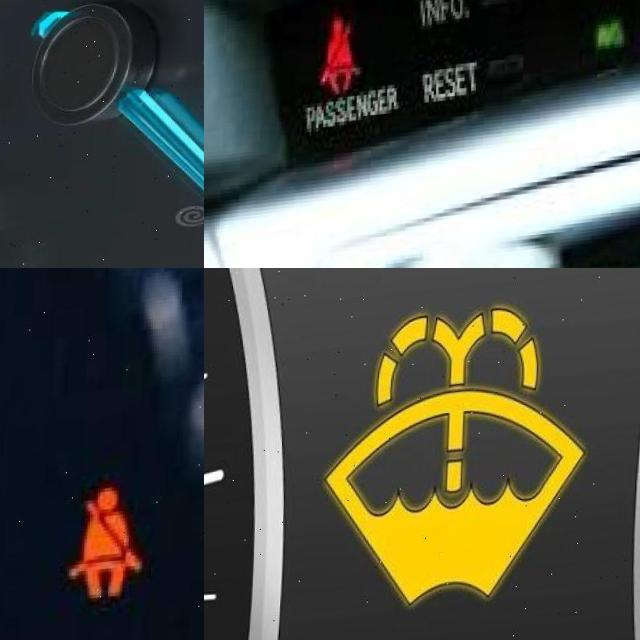Seat Belt: (71, 493, 145, 608), (317, 19, 364, 107)
Washer Fluid: (320, 311, 592, 623)
